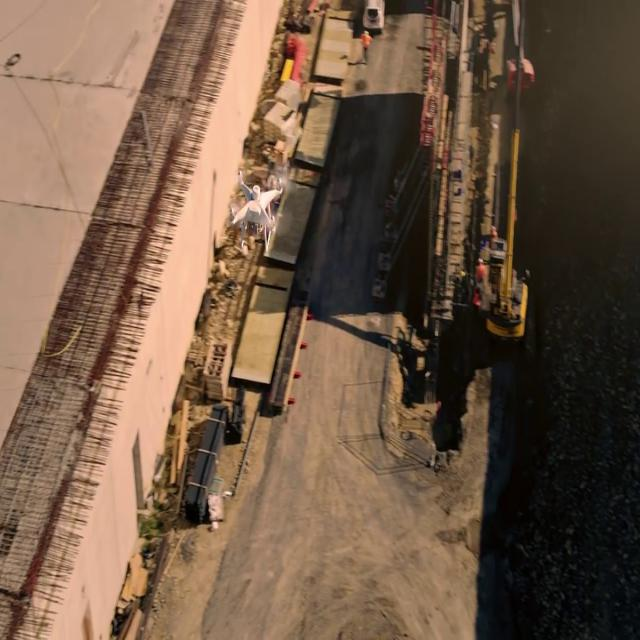drone: (223, 165, 289, 243)
